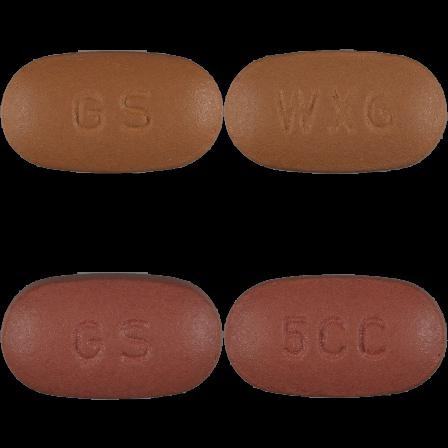0007-4887: (0, 0, 224, 224)
